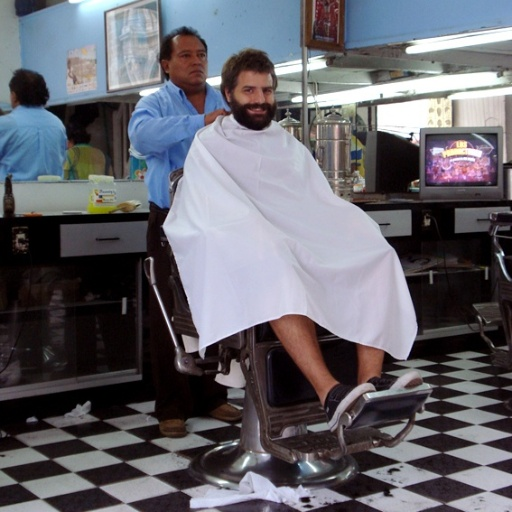hand: (202, 104, 229, 122)
